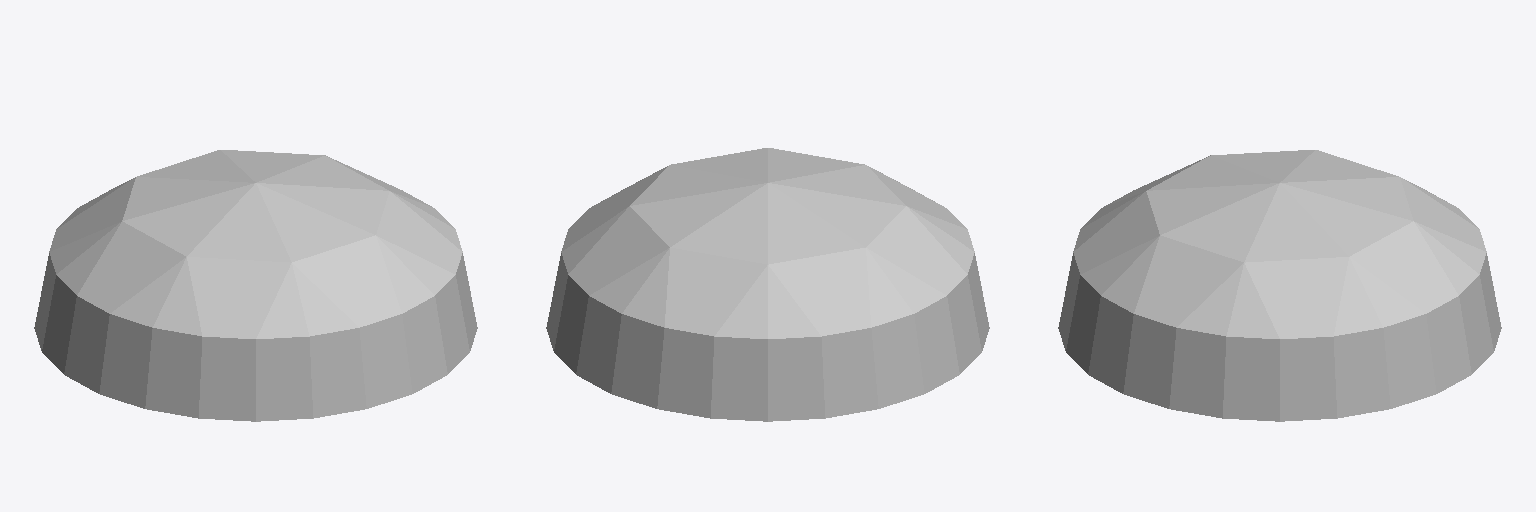
File: Seaside hill 2.obj
3 views of the same model, side by side, from view 1: azimuth 30°, elevation 25°; view 2: azimuth 150°, elevation 25°; view 3: azimuth 270°, elevation 25° (orthographic).
Visible parts, largest first — view 1: obj2; view 2: obj2; view 3: obj2.
Part boxes in pixels (bbox=[...]): obj2: bbox=[34, 150, 477, 421]; obj2: bbox=[546, 148, 989, 421]; obj2: bbox=[1058, 150, 1501, 421].
Bounding box in the file's own units: 100000 × 36393 × 100000.